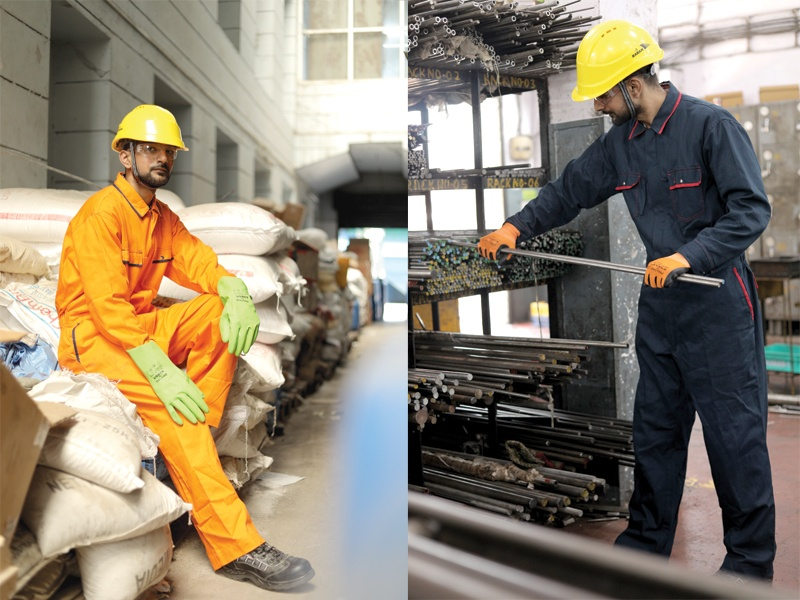yellow: (572, 18, 664, 121), (116, 105, 182, 187)
